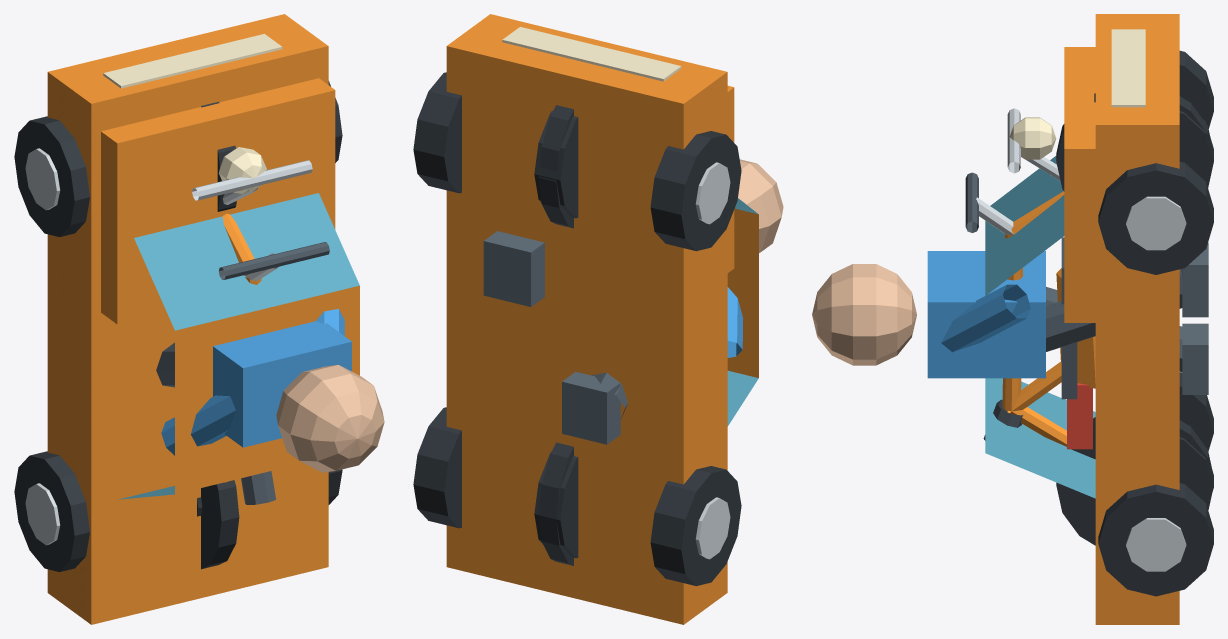
Rendered from navora_vehicles.gltf.
3 renders of one model, left to right at view 1: azimuth 30°, elevation 25°; view 2: azimuth 150°, elevation 25°; view 3: azimuth 270°, elevation 25°, orthographic. The views are drawn at different scales.
Visible parts, largest first — view 1: Araba, Yürüyüş, Bisiklet, Motosiklet; view 2: Araba, Yürüyüş, Bisiklet, Motosiklet; view 3: Araba, Yürüyüş, Motosiklet, Bisiklet.
Part boxes in pixels (x1,y1,x2,y2): Araba: (14,14,359,624); Yürüyüş: (156,309,384,472); Bisiklet: (201,101,329,569); Motosiklet: (192,147,312,516); Araba: (413,14,758,624); Yürüyüş: (483,159,783,444); Bisiklet: (538,105,573,565); Motosiklet: (534,110,578,558); Araba: (985,14,1213,624); Yürüyüş: (812,242,1208,394); Motosiklet: (1007,108,1213,507); Bisiklet: (965,93,1213,545).
Size of the model in its own units: 1.16 by 2.12 by 1.53.
